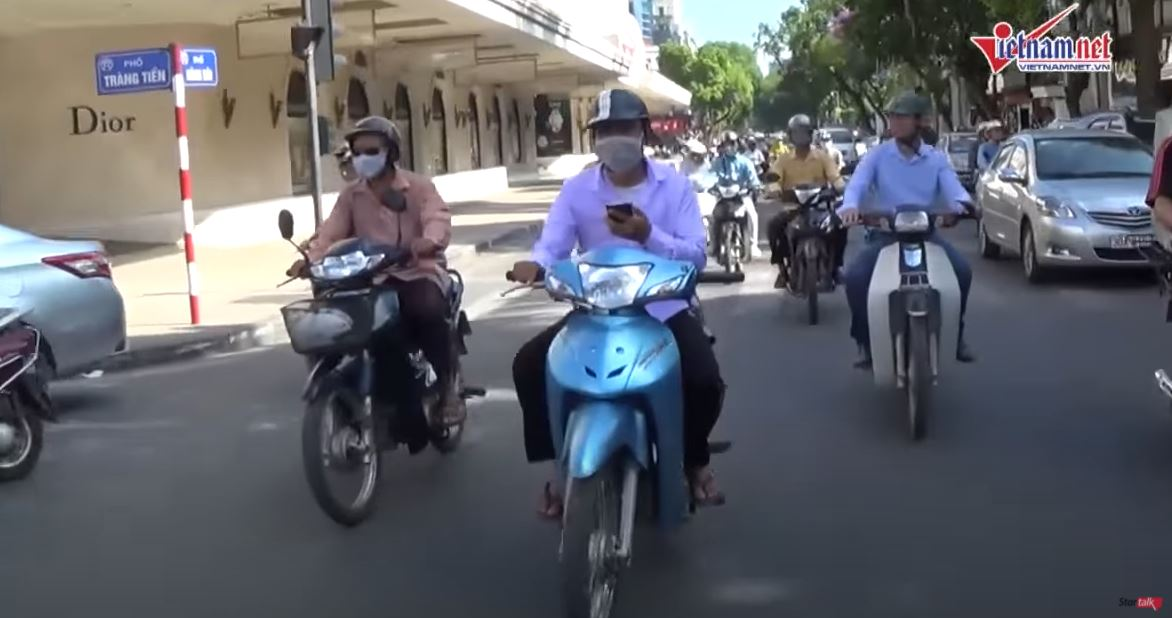dieu khien xe may: (535, 84, 706, 471), (294, 117, 419, 369), (865, 95, 965, 334)
su dung dien thoai: (578, 87, 665, 241)
